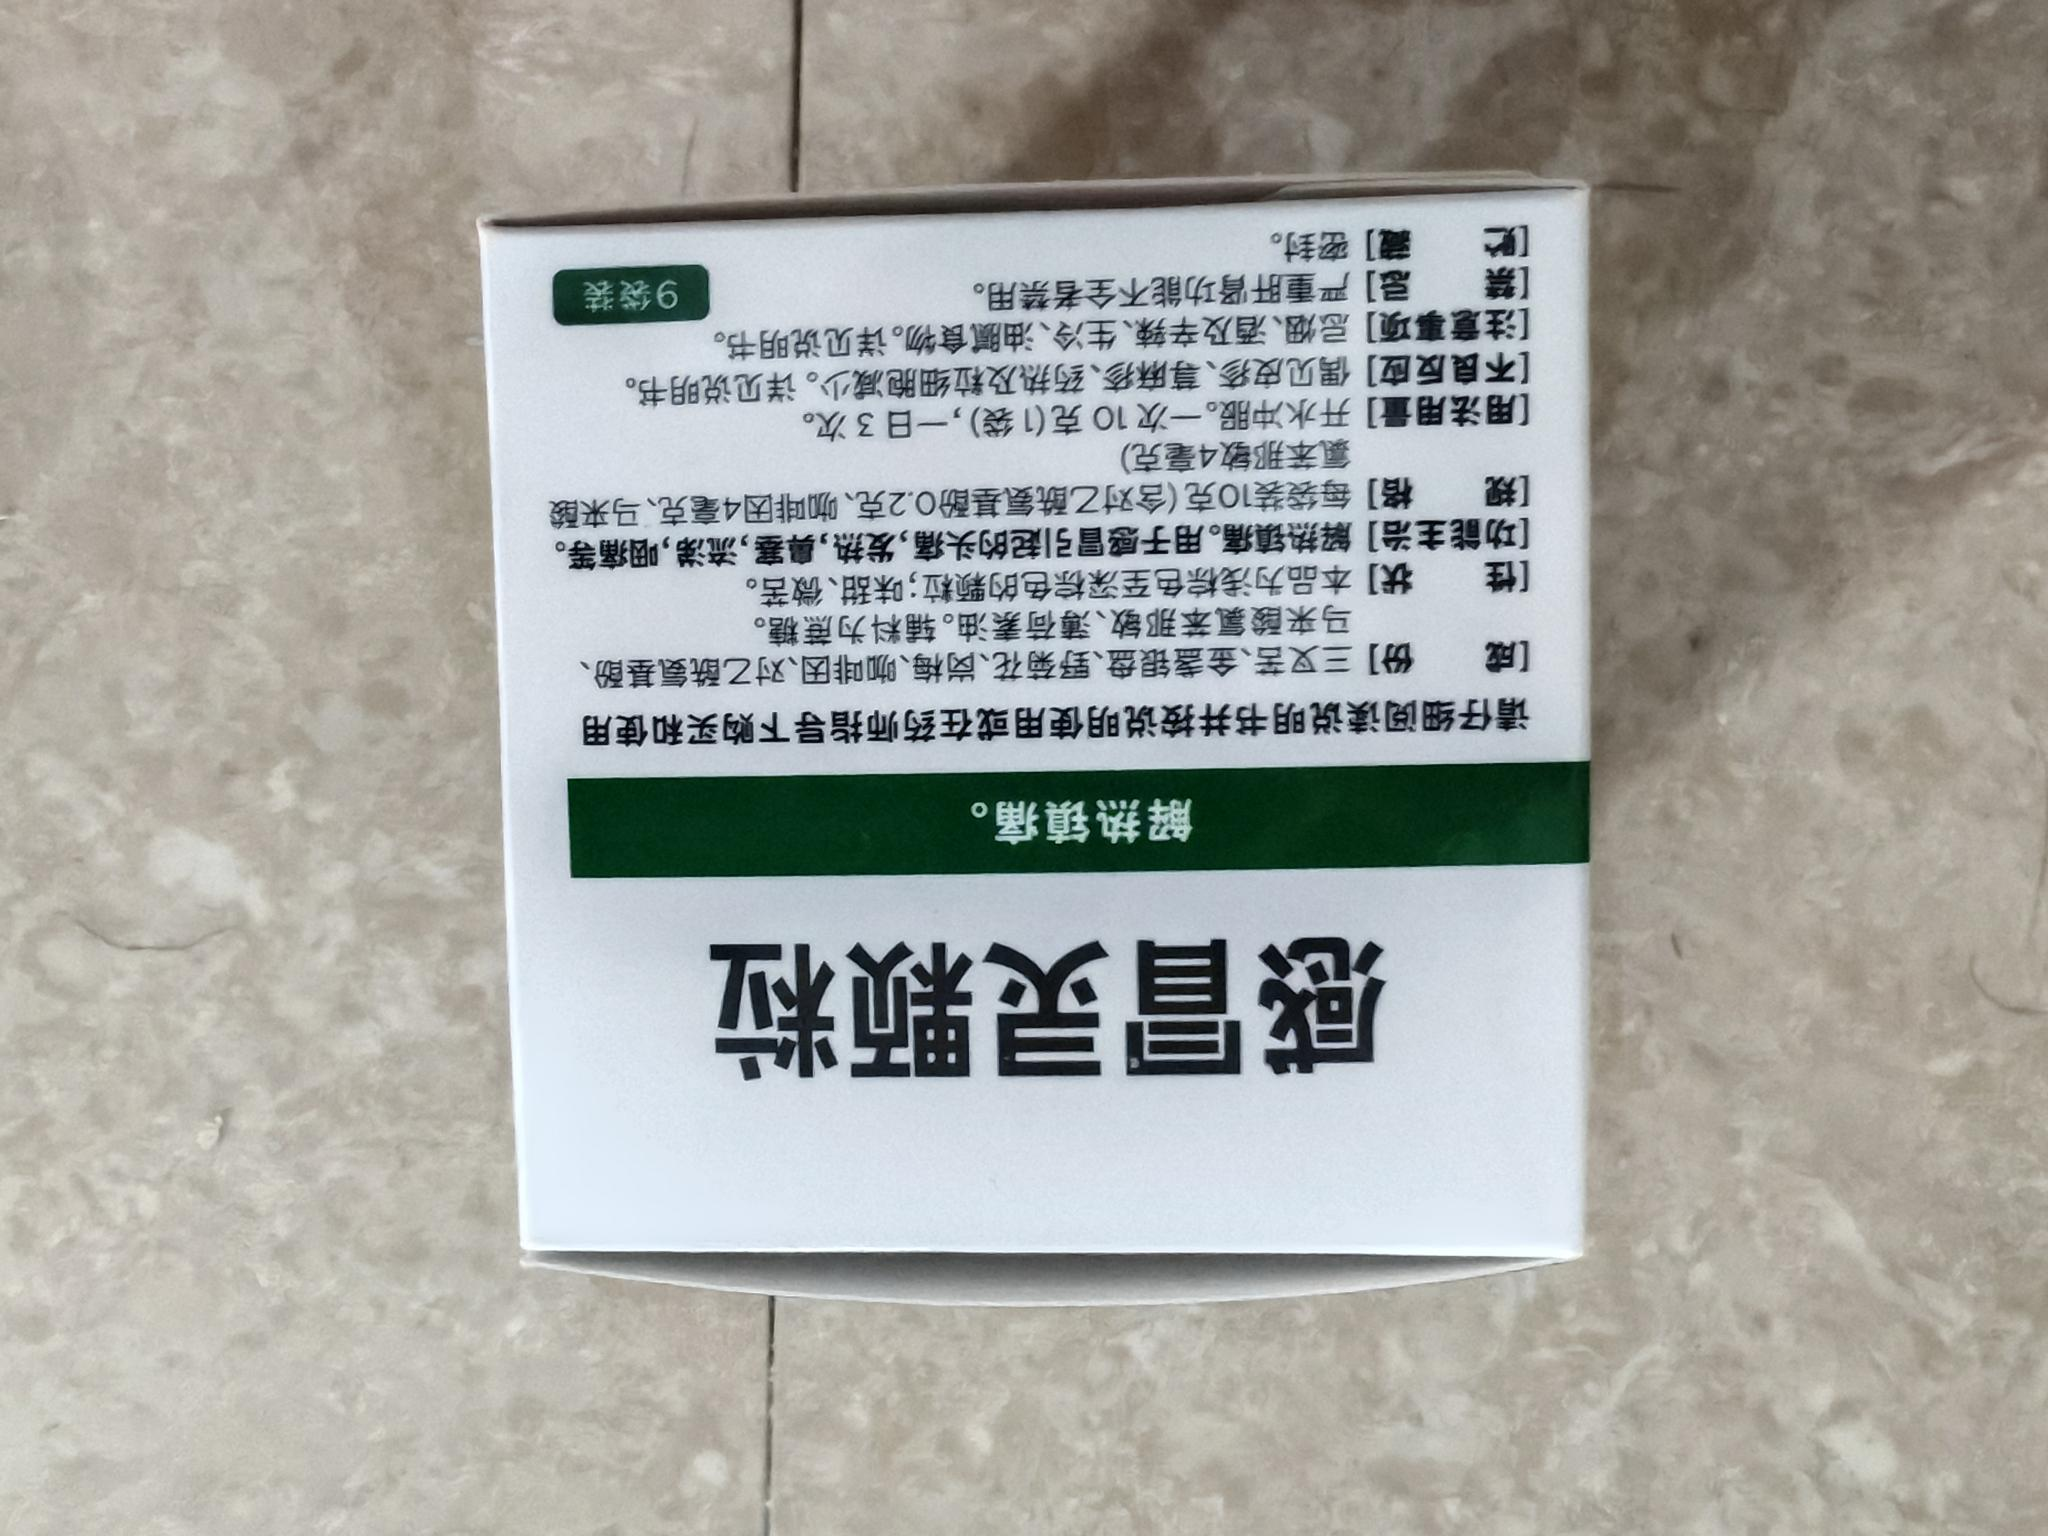Medicine3: (461, 145, 1617, 1331)
